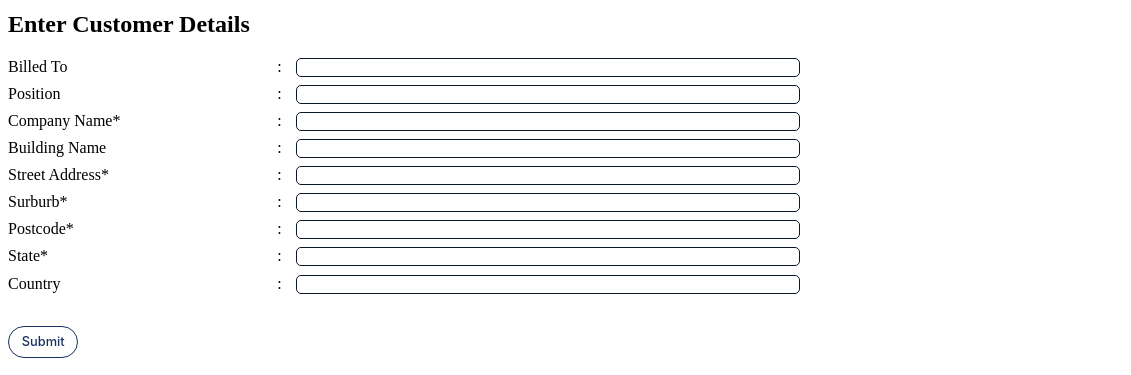
Test: Billing Address Component › Renders "Error message" when submit a blank form
Click the button.
click(43, 342)  # box [8,326,78,358]
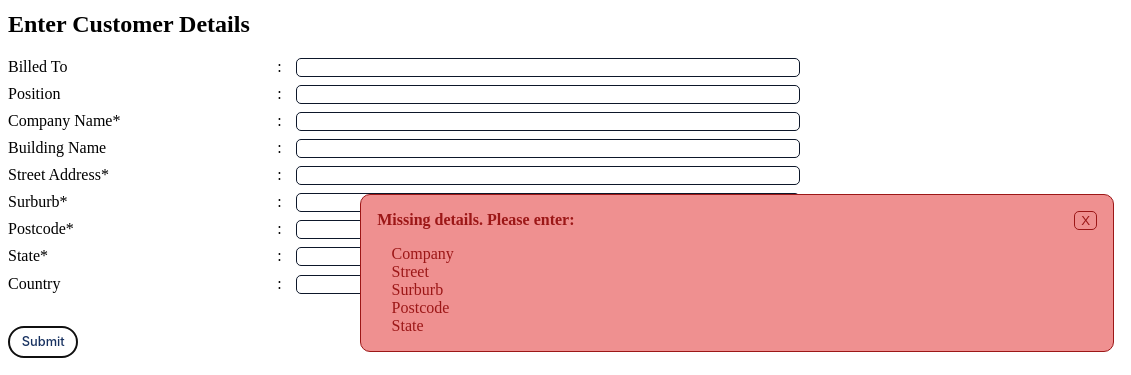
Expected: the heading "Missing details. Please enter:" is shown, [377,211,574,228]
